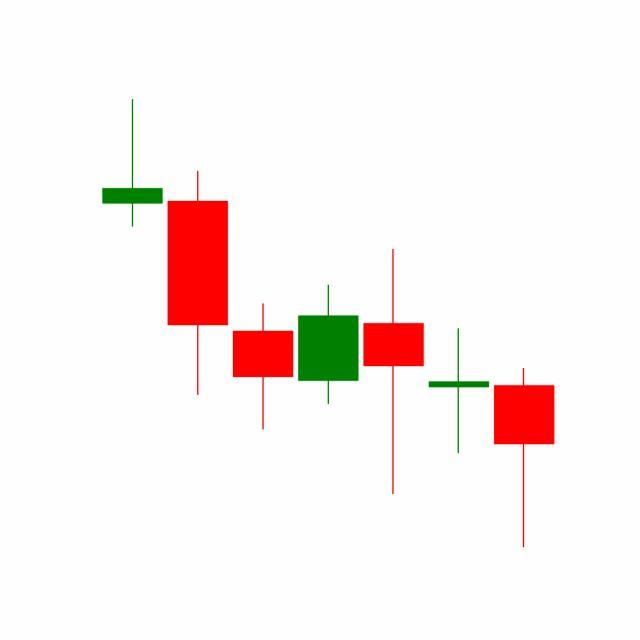Hikkake Pattern: (229, 245, 555, 549)
